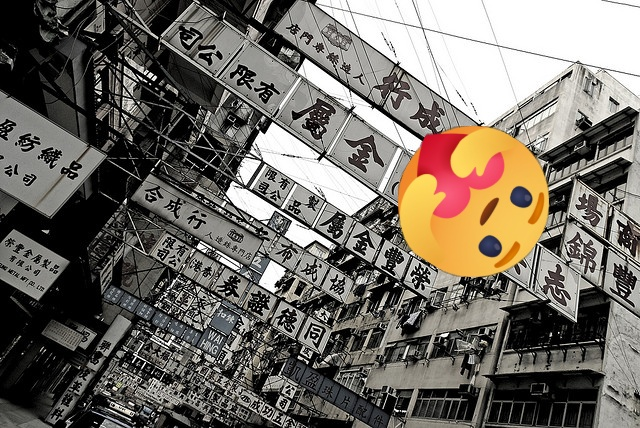care: (398, 126, 549, 277)
